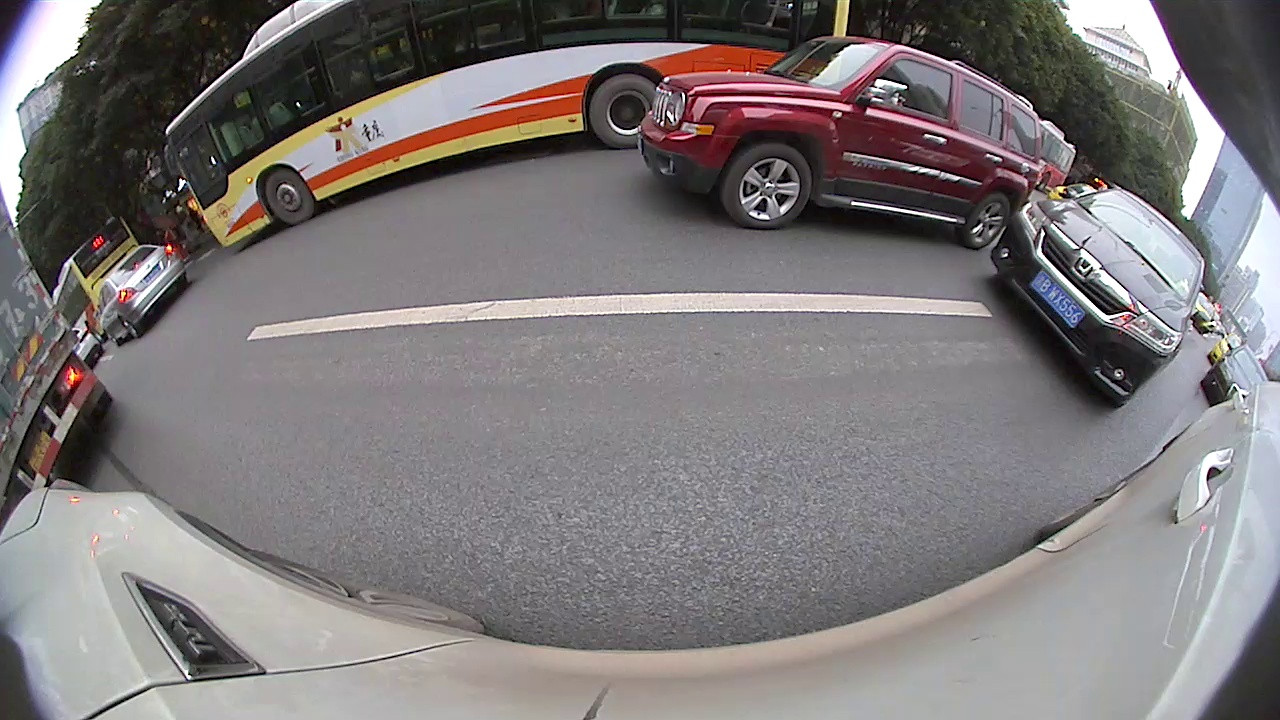bus: (164, 1, 850, 252), (50, 211, 141, 336), (1040, 118, 1079, 193)
car: (639, 36, 1044, 253), (990, 186, 1203, 406), (98, 244, 189, 347), (1199, 343, 1270, 409)
front: (722, 141, 813, 229), (264, 169, 315, 225)
rear: (588, 73, 658, 148), (956, 191, 1010, 249), (121, 318, 141, 338)
truck: (0, 188, 112, 527)
